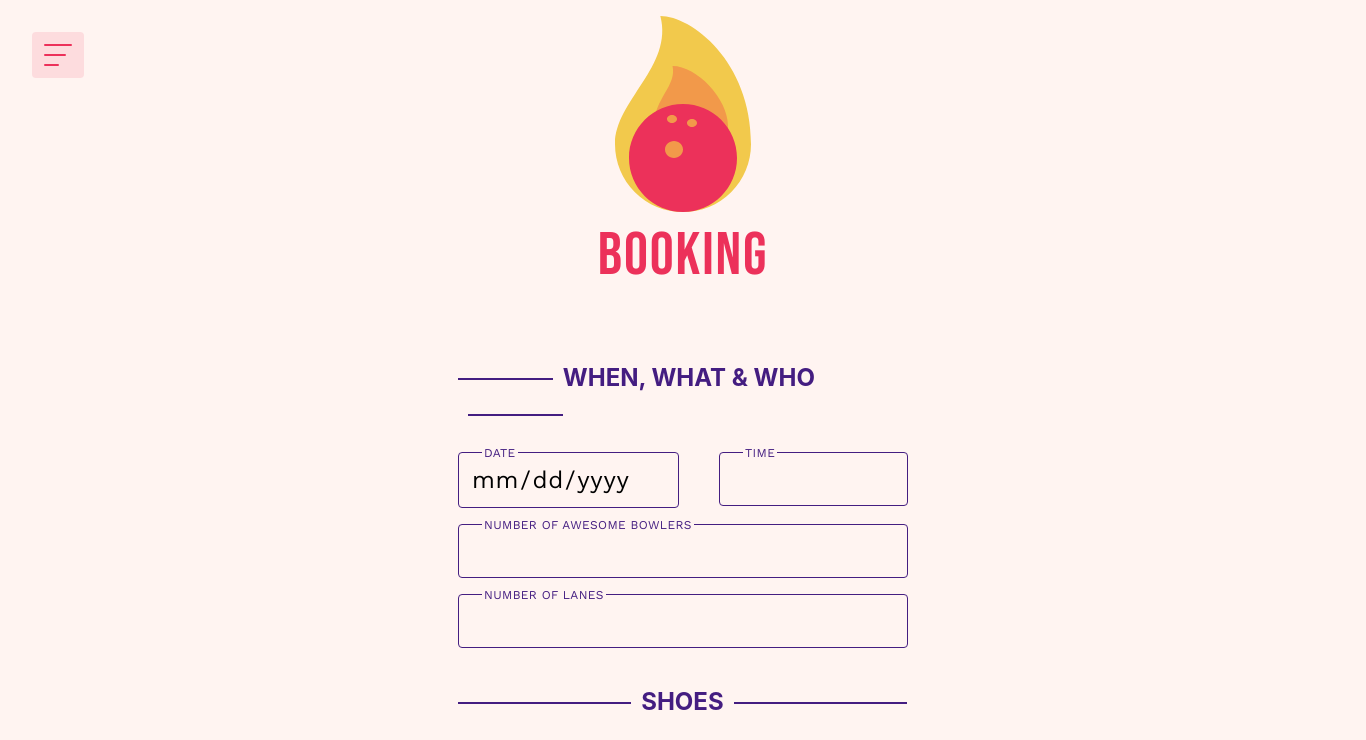
Test case: Testing navigation › Should have 2 navigation links when clicked on the menu bar icon
Click the picture with test id "navigation-icon" at coordinates (58, 55), box [32,32,84,78]
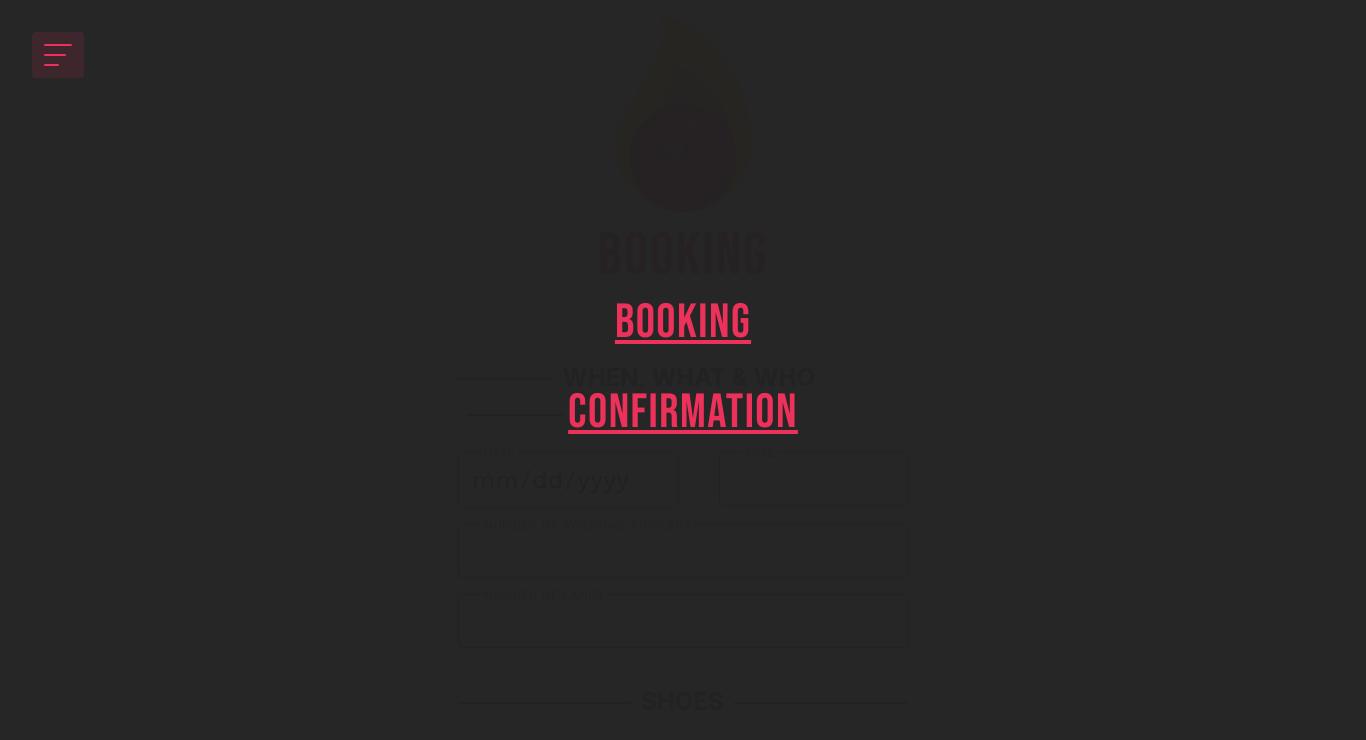
Expected: the number of links with test id "navigation-link" is 2, [615,294,751,352]; [568,384,798,442]
Expected: the link with test id "navigation-link" reads "Booking", [615,294,751,352]
Expected: the link with test id "navigation-link" reads "Confirmation", [568,384,798,442]
